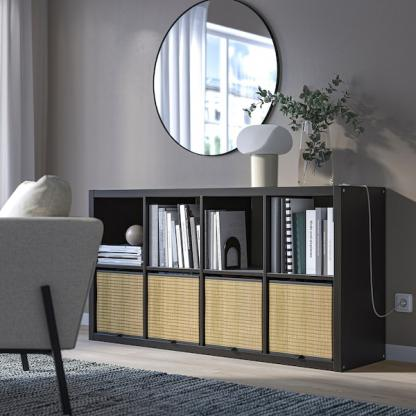lamp: (88, 188, 388, 376)
